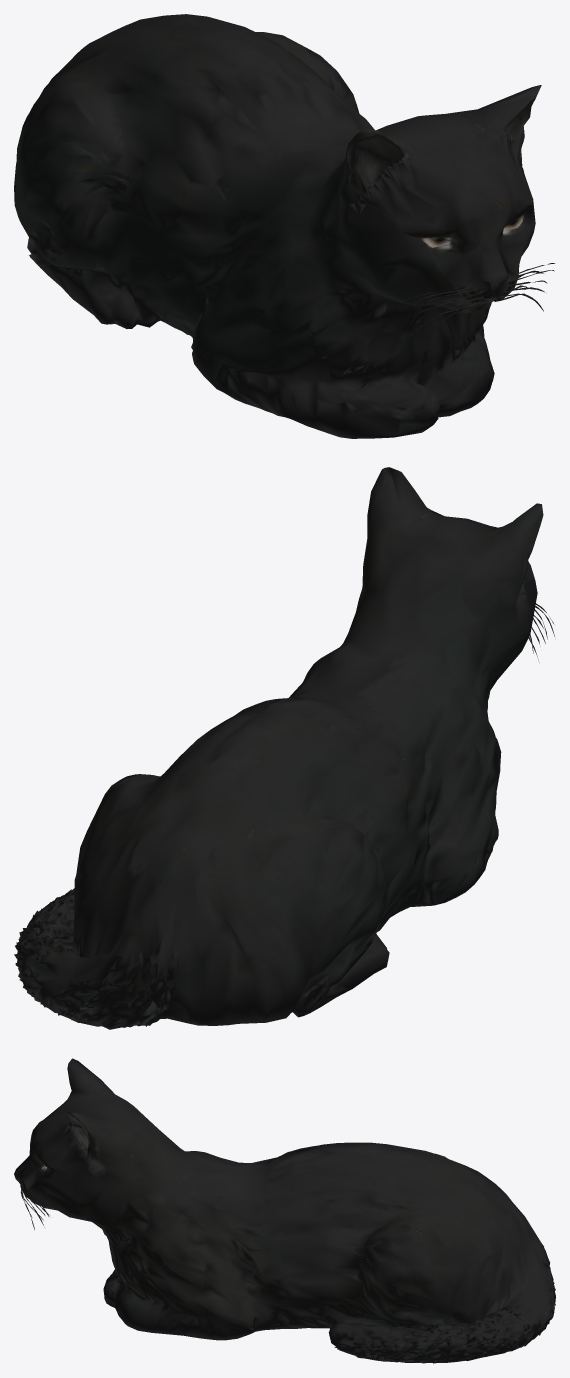
The model's file is cat2.glb.
3 views of the same model, one above another, from view 1: azimuth 30°, elevation 25°; view 2: azimuth 150°, elevation 25°; view 3: azimuth 270°, elevation 25° (orthographic). The views are drawn at different scales.
Size of the model in its own units: 0.9071 by 0.8528 by 1.89.
Materials: 1 (1 with a texture image).
